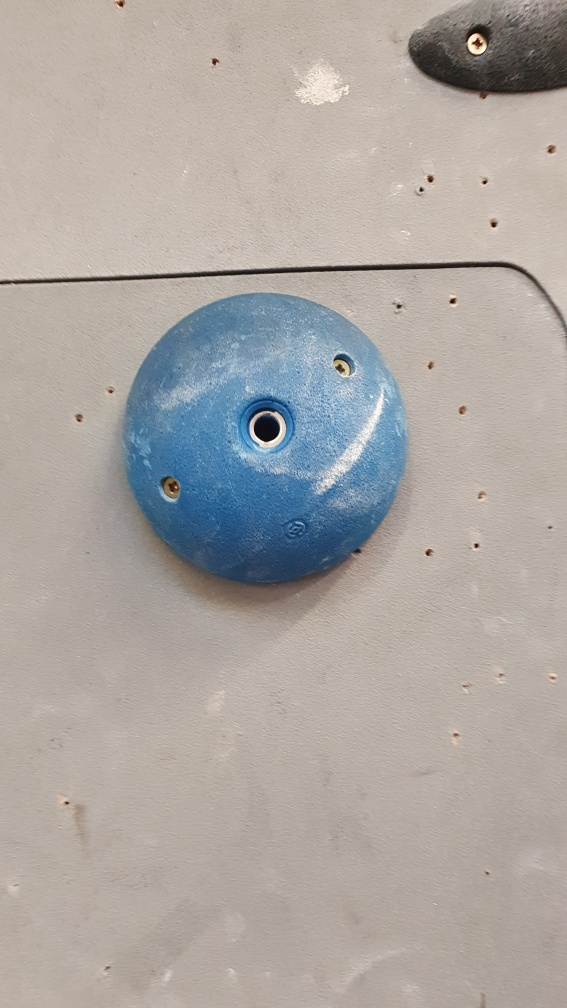Sloper: (119, 289, 412, 593)
